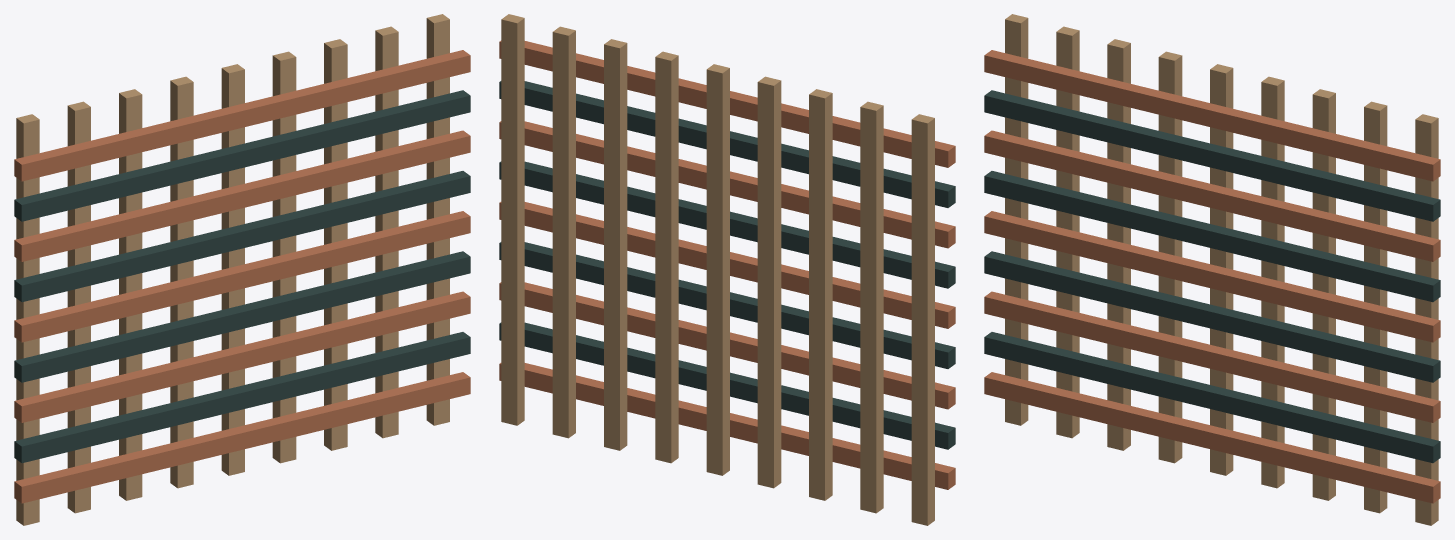
3 renders of one model, left to right at view 1: azimuth 30°, elevation 25°; view 2: azimuth 150°, elevation 25°; view 3: azimuth 330°, elevation 25°, orthographic.
Parts seen in each view (by area): view 1: horizontal0, horizontal3, horizontal4, horizontal7, horizontal8, horizontal2, horizontal6, horizontal5, horizontal1, vertical5, vertical0, vertical4 (+6 smaller); view 2: vertical3, vertical1, vertical2, vertical0, vertical4, vertical5, vertical6, vertical8, vertical7, horizontal1, horizontal5, horizontal2 (+6 smaller); view 3: horizontal0, horizontal3, horizontal4, horizontal7, horizontal8, horizontal2, horizontal6, horizontal5, horizontal1, vertical3, vertical8, vertical4 (+6 smaller).
Part boxes in pixels (left/top/right/bottom): horizontal0: left=14, top=372, right=470, bottom=503; horizontal3: left=14, top=251, right=470, bottom=382; horizontal4: left=14, top=211, right=470, bottom=342; horizontal7: left=14, top=90, right=470, bottom=221; horizontal8: left=14, top=50, right=470, bottom=181; horizontal2: left=14, top=291, right=470, bottom=422; horizontal6: left=14, top=130, right=470, bottom=261; horizontal5: left=14, top=171, right=470, bottom=302; horizontal1: left=14, top=332, right=470, bottom=463; vertical5: left=272, top=51, right=296, bottom=463; vertical0: left=16, top=114, right=39, bottom=525; vertical4: left=221, top=64, right=244, bottom=475; vertical3: left=757, top=76, right=781, bottom=488; vertical1: left=860, top=101, right=883, bottom=513; vertical2: left=809, top=89, right=832, bottom=500; vertical0: left=911, top=114, right=934, bottom=525; vertical4: left=706, top=64, right=729, bottom=475; vertical5: left=655, top=51, right=678, bottom=463; vertical6: left=604, top=39, right=627, bottom=450; vertical8: left=501, top=14, right=524, bottom=425; vertical7: left=552, top=26, right=575, bottom=438; horizontal1: left=499, top=322, right=955, bottom=449; horizontal5: left=499, top=161, right=955, bottom=288; horizontal2: left=499, top=282, right=955, bottom=409; horizontal0: left=984, top=372, right=1440, bottom=503; horizontal3: left=984, top=251, right=1440, bottom=382; horizontal4: left=984, top=211, right=1440, bottom=342; horizontal7: left=984, top=90, right=1440, bottom=221; horizontal8: left=984, top=50, right=1440, bottom=181; horizontal2: left=984, top=291, right=1440, bottom=422; horizontal6: left=984, top=130, right=1440, bottom=261; horizontal5: left=984, top=171, right=1440, bottom=302; horizontal1: left=984, top=332, right=1440, bottom=463; vertical3: left=1158, top=51, right=1182, bottom=463; vertical8: left=1415, top=114, right=1438, bottom=525; vertical4: left=1210, top=64, right=1233, bottom=475.
Size of the model in its own units: 0.7 by 0.6 by 0.045.
